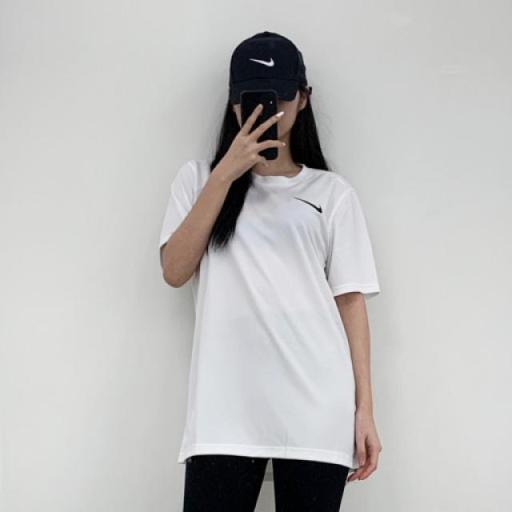Nike: (290, 193, 326, 215)
